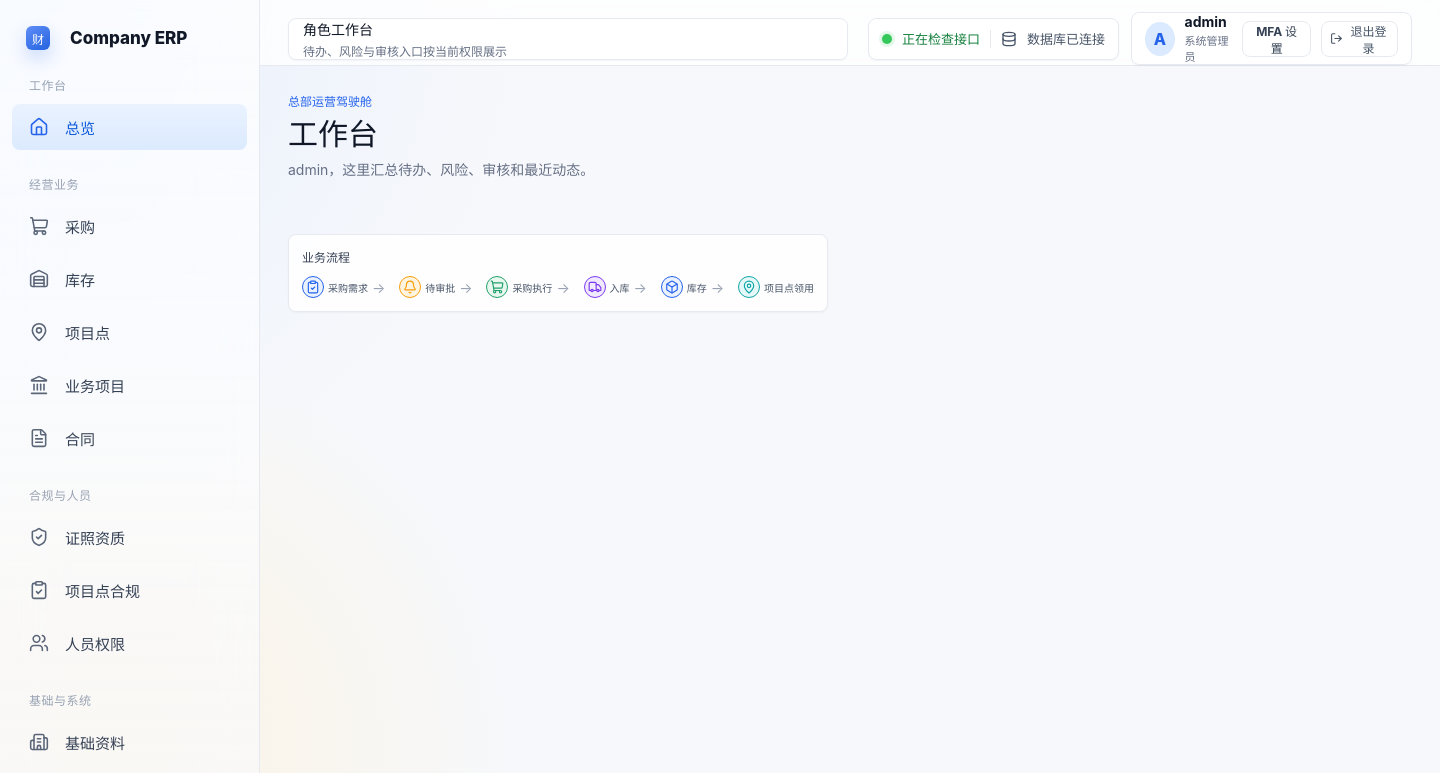
Test: Company ERP app shell › switches workspaces from the sidebar without preloading every module
The width and height of the screenshot is (1440, 773).
Expected: the heading "工作台" is shown, x1=288 y1=116 x2=378 y2=152
Expected: the heading "库存管理" is not shown
Click the button "库存": (130, 279) x1=12 y1=256 x2=247 y2=302
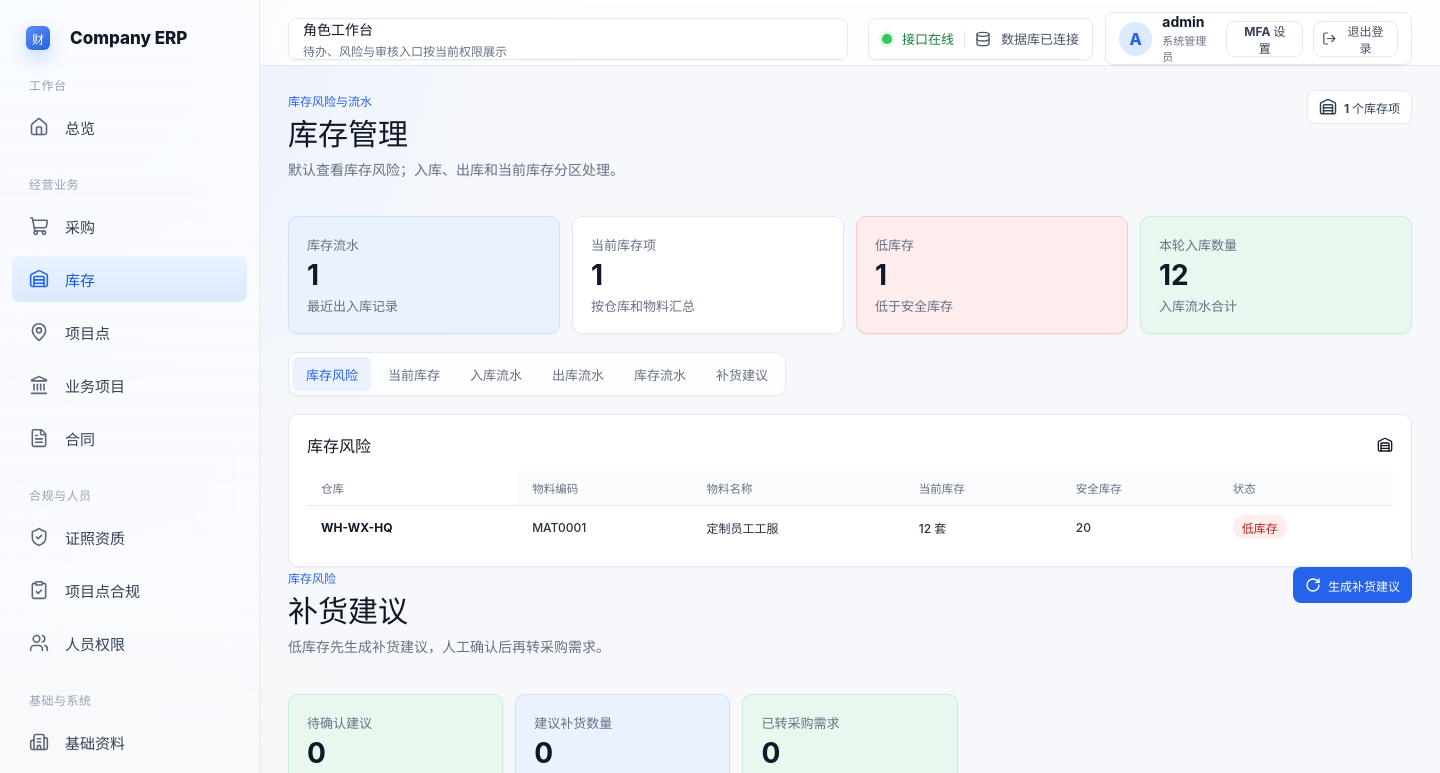
Expected: the heading "库存管理" is shown, x1=288 y1=116 x2=408 y2=152
